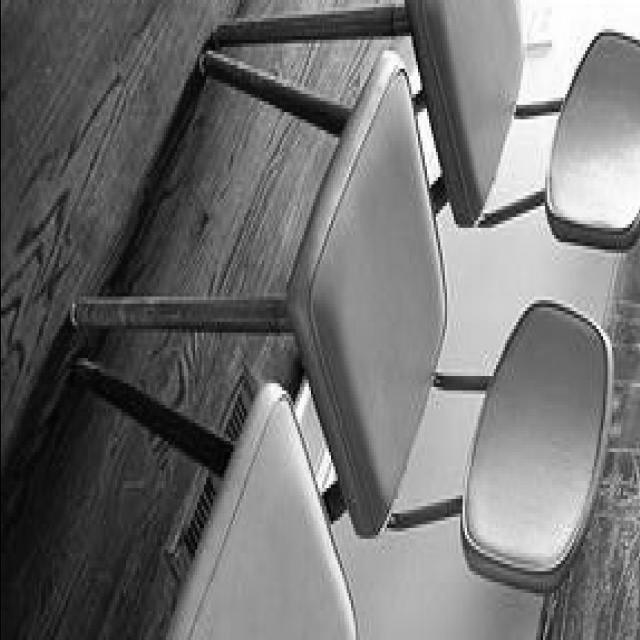chair: (74, 52, 612, 598), (214, 1, 639, 268)
